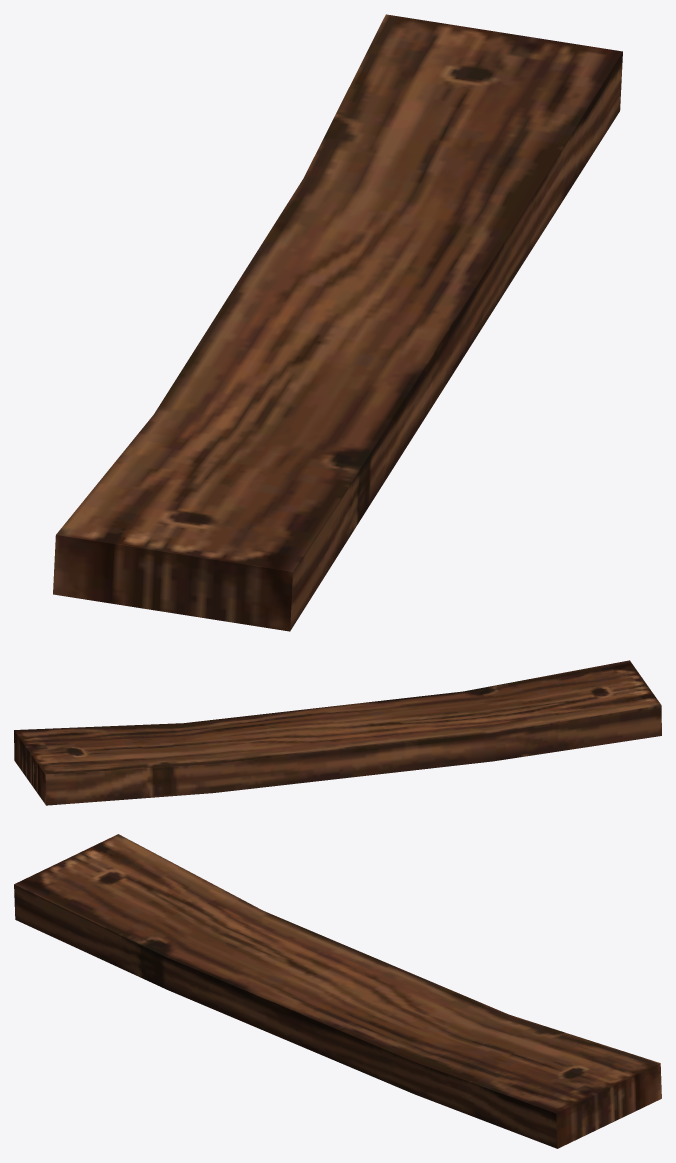
File: OVERHILL_A_01_WOOD_BOARD_26.fbx
3 views of the same model, one above another, from view 1: azimuth 30°, elevation 25°; view 2: azimuth 150°, elevation 25°; view 3: azimuth 270°, elevation 25° (orthographic). The views are drawn at different scales.
Visible parts, largest first — view 1: OVERHILL_A_01_WOOD_BOARD_26; view 2: OVERHILL_A_01_WOOD_BOARD_26; view 3: OVERHILL_A_01_WOOD_BOARD_26.
Boxes of the visible parts, x1,y1,x2,y2 form: OVERHILL_A_01_WOOD_BOARD_26: [53, 14, 622, 631]; OVERHILL_A_01_WOOD_BOARD_26: [14, 660, 661, 805]; OVERHILL_A_01_WOOD_BOARD_26: [14, 834, 661, 1148].
Bounding box in the file's own units: 15429 × 1357 × 15429.
Materials: 1 (1 with a texture image).
